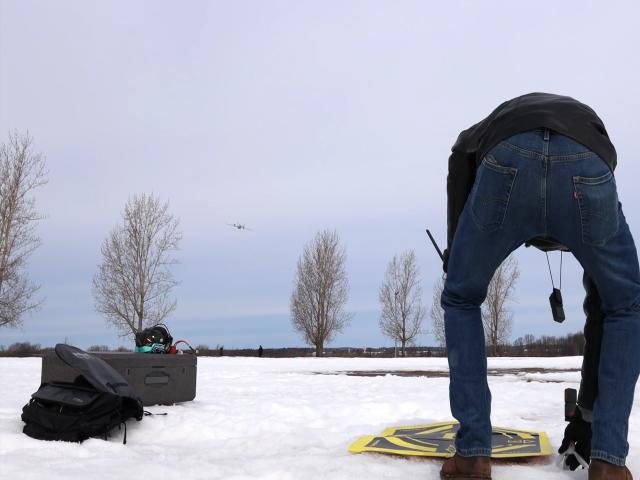plane: (226, 216, 252, 233)
